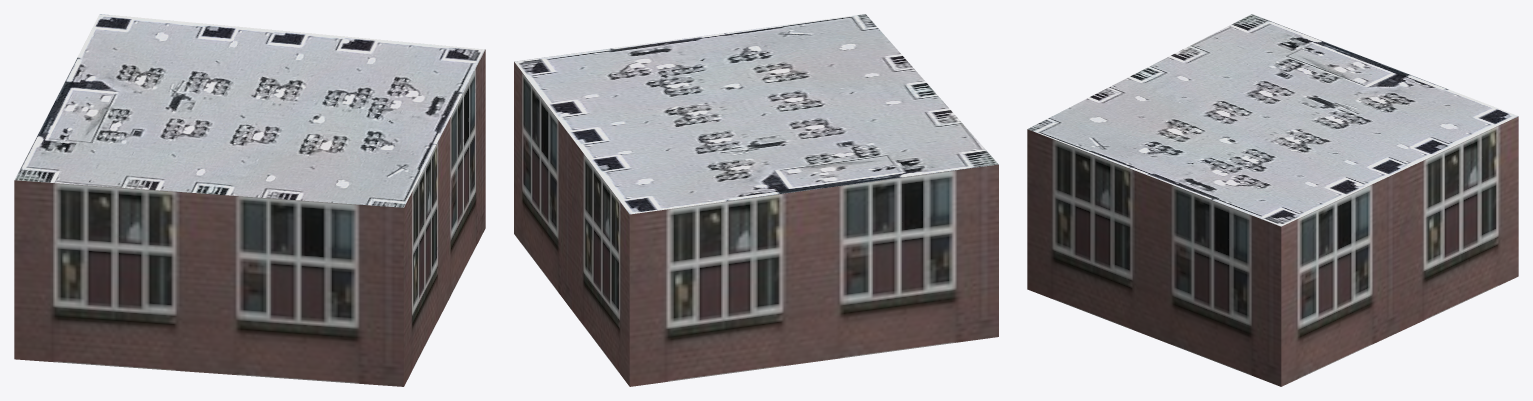
File: ResTex__2989.fbx
The picture shows the model from 3 angles, left to right: view 1: azimuth 30°, elevation 25°; view 2: azimuth 150°, elevation 25°; view 3: azimuth 270°, elevation 25°; orthographic projection. The views are drawn at different scales.
Parts seen in each view (by area): view 1: CityEngineMaterial_12_m, CityEngineMaterial_m; view 2: CityEngineMaterial_12_m, CityEngineMaterial_m; view 3: CityEngineMaterial_12_m, CityEngineMaterial_m.
Boxes of the visible parts, x1,y1,x2,y2 form: CityEngineMaterial_12_m: [14, 49, 485, 386]; CityEngineMaterial_m: [15, 14, 485, 207]; CityEngineMaterial_12_m: [514, 62, 998, 386]; CityEngineMaterial_m: [514, 14, 998, 214]; CityEngineMaterial_12_m: [1027, 116, 1518, 386]; CityEngineMaterial_m: [1027, 14, 1518, 226].
Bounding box in the file's own units: 8.54 × 3 × 8.34.
2 materials, 2 textured.
